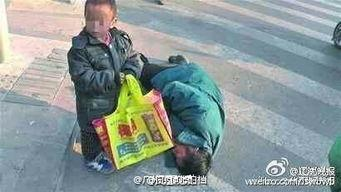Fall-Detected: (133, 35, 229, 177)
